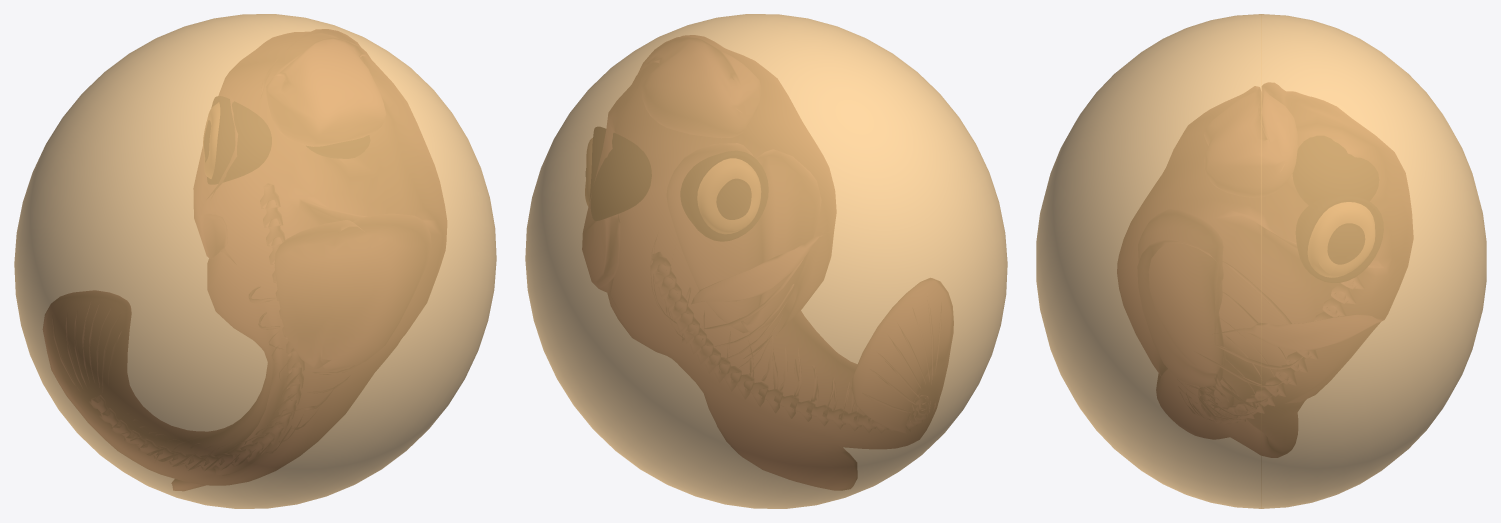
Rendered from fish-fry-retopo-8.gltf.
The picture shows the model from 3 angles, left to right: view 1: azimuth 30°, elevation 25°; view 2: azimuth 150°, elevation 25°; view 3: azimuth 270°, elevation 25°; orthographic projection.
Visible parts, largest first — view 1: Sphere.1, Fry Model 4-Fish, Fry Model 4-Mat.4, Fry Model 4-eye_gold; view 2: Sphere.1, Fry Model 4-Fish, Fry Model 4-Mat.4, Fry Model 4-eye_gold; view 3: Sphere.1, Fry Model 4-Fish, Fry Model 4-Mat.4, Fry Model 4-eye_gold.
Part boxes in pixels (<box>): Sphere.1: <box>14,14,496,508</box>; Fry Model 4-Fish: <box>43,29,446,490</box>; Fry Model 4-Mat.4: <box>204,96,369,183</box>; Fry Model 4-eye_gold: <box>203,103,219,178</box>; Sphere.1: <box>525,14,1007,508</box>; Fry Model 4-Fish: <box>582,35,953,489</box>; Fry Model 4-Mat.4: <box>590,127,767,240</box>; Fry Model 4-eye_gold: <box>585,138,760,233</box>; Sphere.1: <box>1036,14,1486,508</box>; Fry Model 4-Fish: <box>1117,83,1412,457</box>; Fry Model 4-Mat.4: <box>1293,136,1383,282</box>; Fry Model 4-eye_gold: <box>1308,202,1374,277</box>.
Size of the model in its own units: 149 by 152 by 138.
